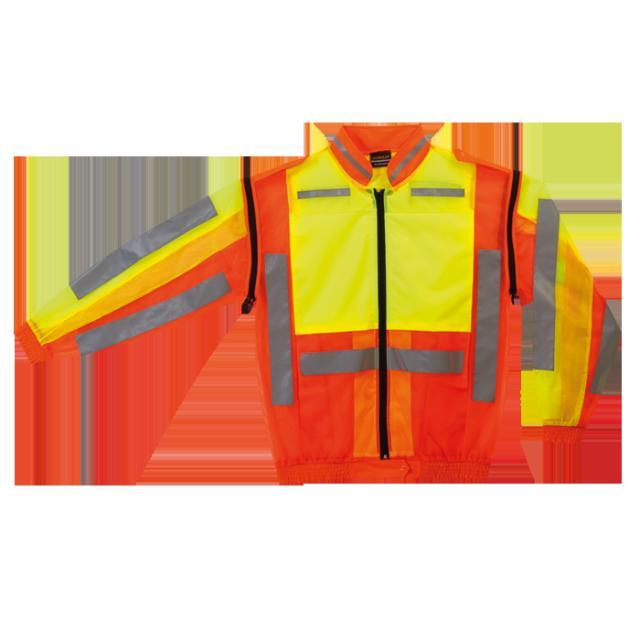reflective_jacket: (26, 138, 633, 484)
